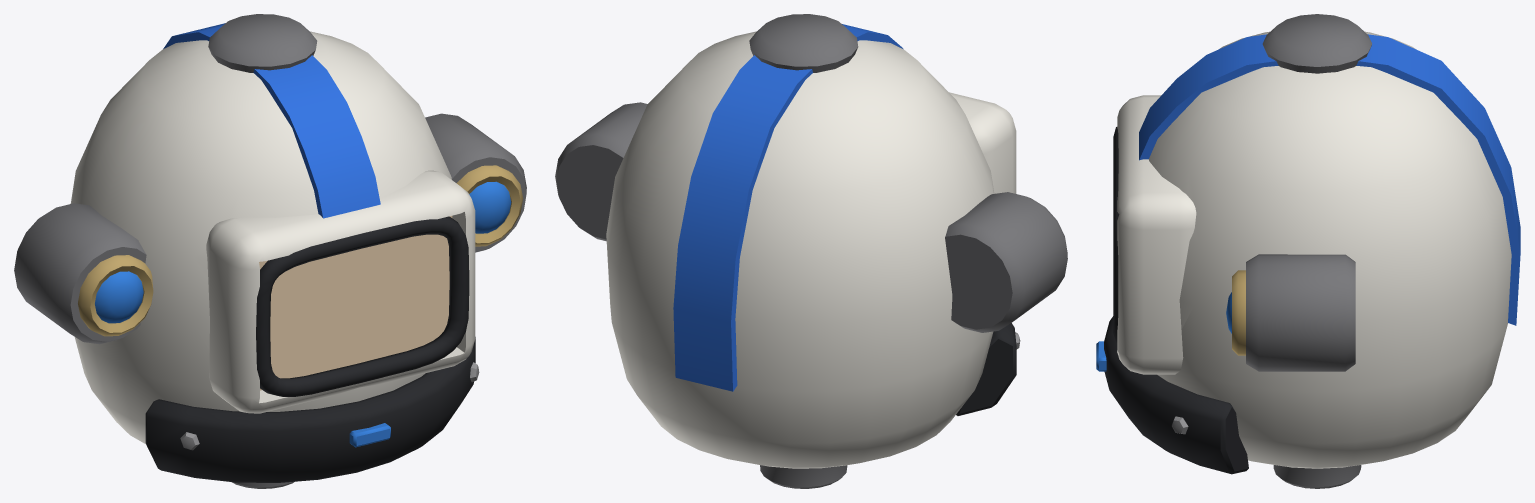
The model's file is Kit_Head_ProPilot.glb.
3 views of the same model, side by side, from view 1: azimuth 30°, elevation 25°; view 2: azimuth 150°, elevation 25°; view 3: azimuth 270°, elevation 25° (orthographic).
Visible parts, largest first — view 1: Kit_Head_ProPilot, FacePlate; view 2: Kit_Head_ProPilot; view 3: Kit_Head_ProPilot.
Boxes of the visible parts, x1,y1,x2,y2 form: Kit_Head_ProPilot: (14, 14, 526, 488); FacePlate: (259, 216, 452, 390); Kit_Head_ProPilot: (555, 14, 1067, 488); Kit_Head_ProPilot: (1096, 14, 1520, 488).
Bounding box in the file's own units: 0.424 × 0.382 × 0.332.
